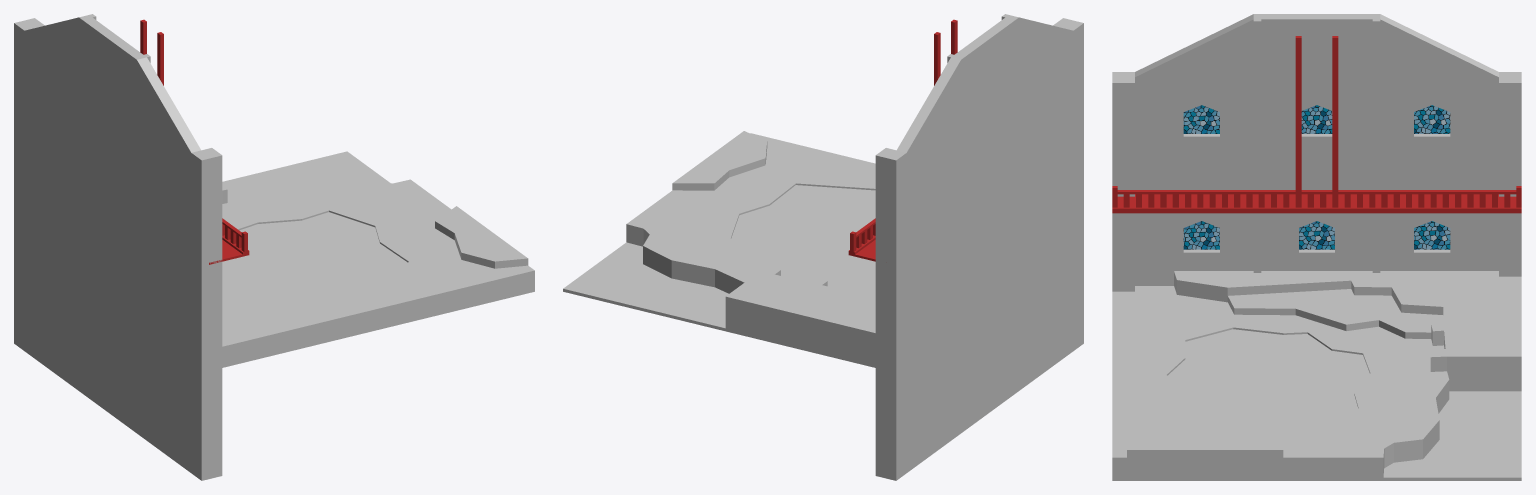
The model's file is last_groundwall1.fbx.
3 renders of one model, left to right at view 1: azimuth 30°, elevation 25°; view 2: azimuth 150°, elevation 25°; view 3: azimuth 270°, elevation 25°, orthographic. The views are drawn at different scales.
Parts seen in each view (by area): view 1: groundwall, ground, miniroad; view 2: groundwall, ground, miniroad; view 3: groundwall, ground, miniroad.
Boxes of the visible parts, x1,y1,x2,y2 form: groundwall: (14, 14, 222, 480); ground: (210, 151, 534, 370); miniroad: (140, 19, 249, 264); groundwall: (875, 14, 1083, 480); ground: (563, 131, 887, 370); miniroad: (848, 19, 957, 261); groundwall: (1112, 14, 1521, 291); ground: (1112, 271, 1521, 480); miniroad: (1112, 36, 1521, 213).
Bounding box in the file's own units: 3280 × 3520 × 3200.
